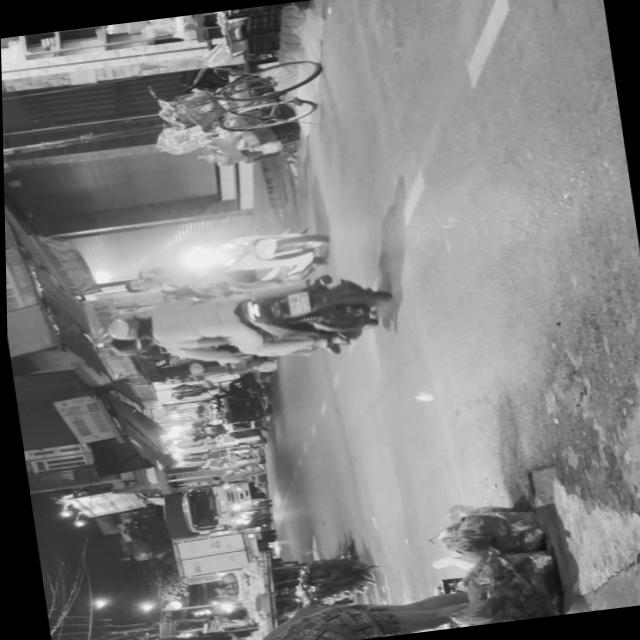helmet: (102, 311, 148, 341), (106, 332, 155, 356)
licenseplate: (97, 266, 394, 380), (113, 220, 333, 304)
nohelmet: (284, 290, 309, 315)
